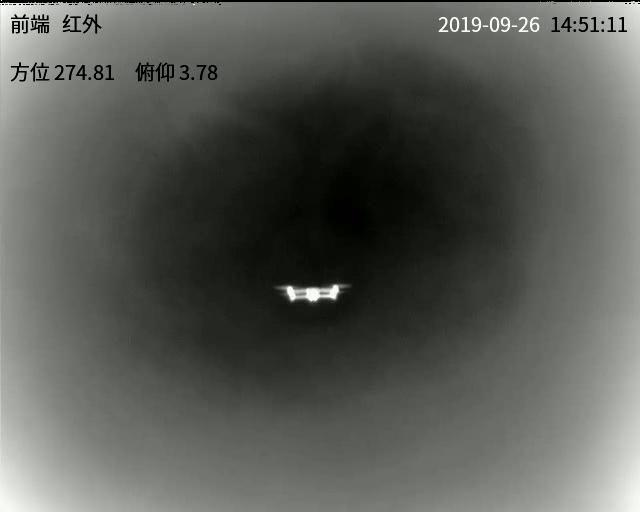DRONE: (279, 281, 345, 305)
